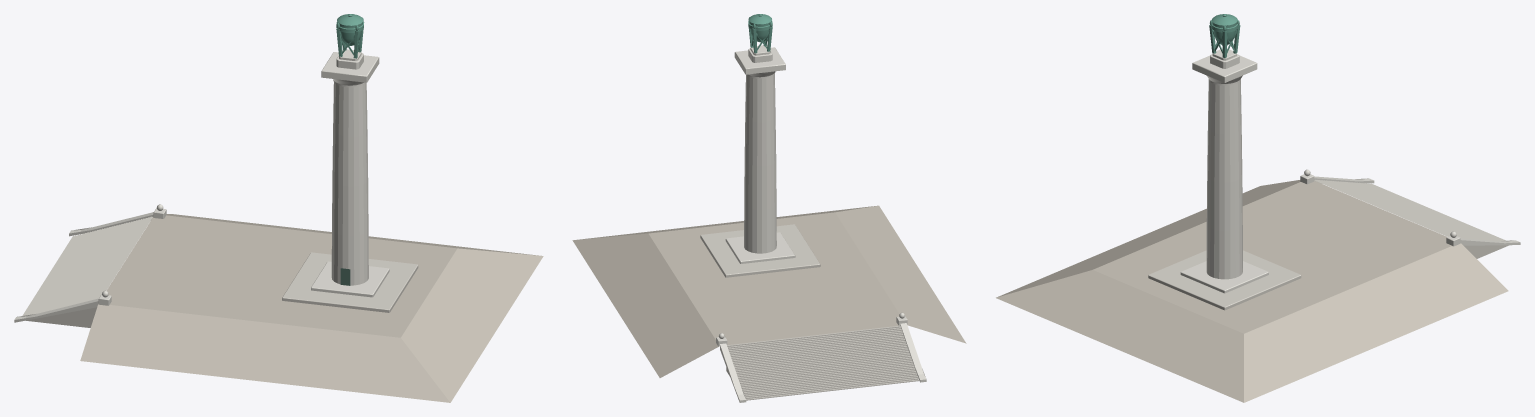
3 views of the same model, side by side, from view 1: azimuth 30°, elevation 25°; view 2: azimuth 150°, elevation 25°; view 3: azimuth 270°, elevation 25° (orthographic). The views are drawn at different scales.
Visible parts, largest first — view 1: prison-ship-martyrs-monument; view 2: prison-ship-martyrs-monument; view 3: prison-ship-martyrs-monument.
Part boxes in pixels (x1,y1,x2,y2): prison-ship-martyrs-monument: (14, 14, 543, 402); prison-ship-martyrs-monument: (572, 14, 966, 402); prison-ship-martyrs-monument: (996, 14, 1520, 402).
Bounding box in the file's own units: 78.97 × 48.45 × 78.97.
